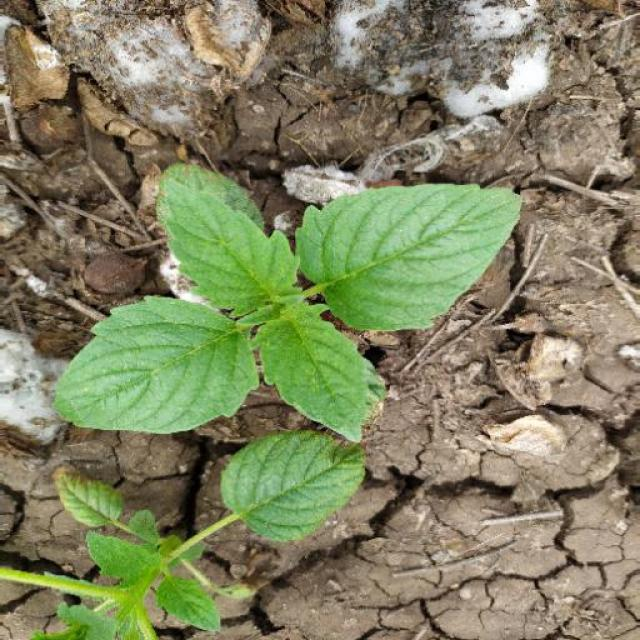crop: (36, 140, 525, 436), (14, 425, 396, 640)
